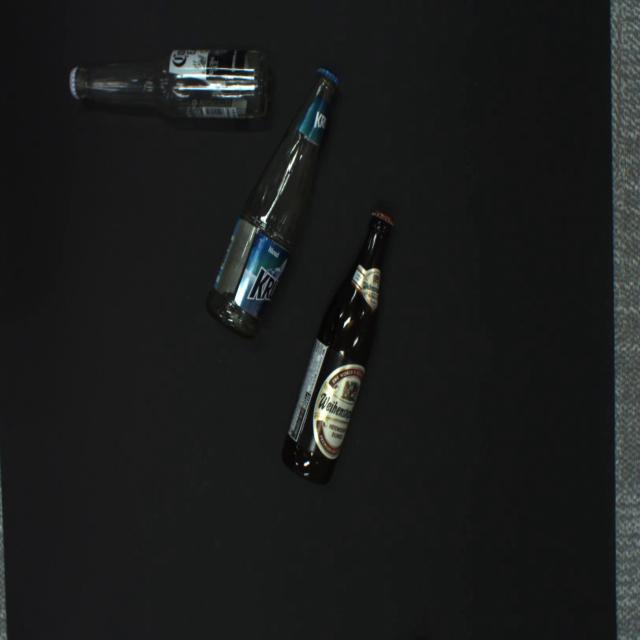beer-bottle: (204, 67, 340, 339), (281, 210, 394, 484), (69, 50, 270, 119)
